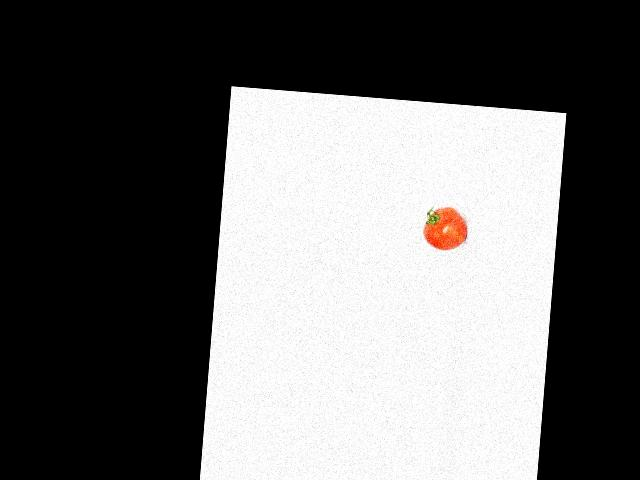tomato: (421, 205, 468, 252)
